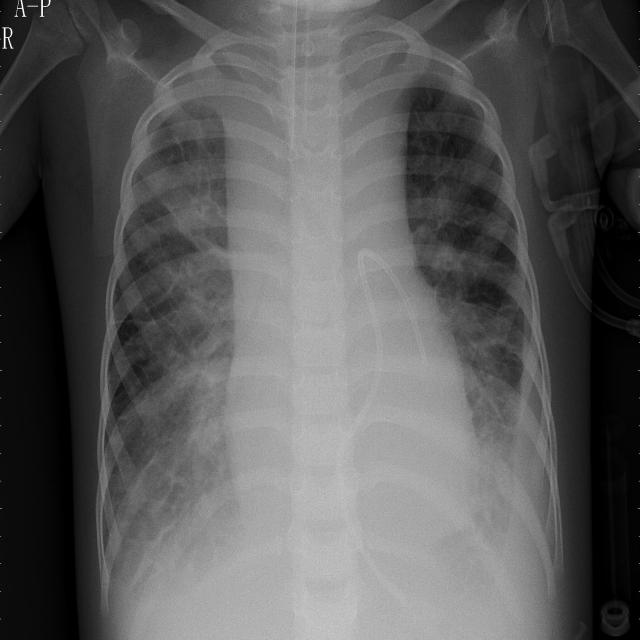high-pneumonia: (116, 369, 228, 578), (167, 118, 237, 366), (446, 317, 523, 461), (413, 199, 512, 290)
